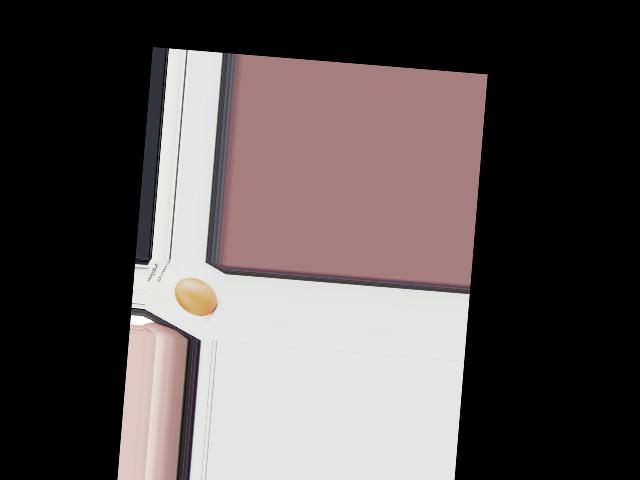egg: (172, 277, 219, 317)
